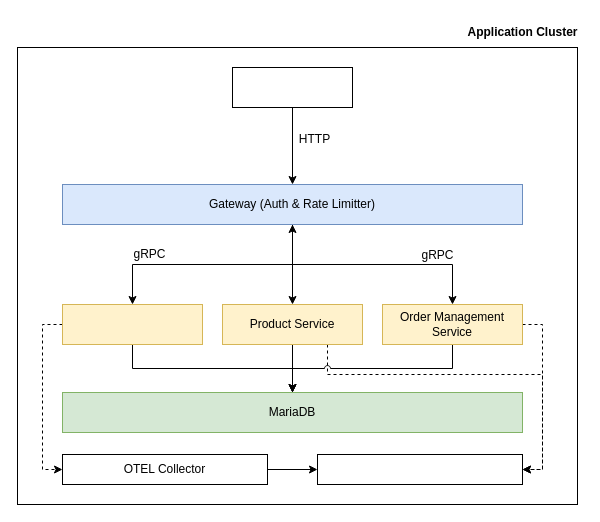
The diagram is 600 pixels wide and 522 high, and some of its shapes have lost their labels. The shapes that lost their labels are listed below. From the top down, each one's box as (x1, y1, x2, y2) in pixels, then its label:
(232, 66, 352, 108): Client Application
(62, 304, 202, 344): Customer Service
(316, 454, 522, 484): Signoz - Observability
